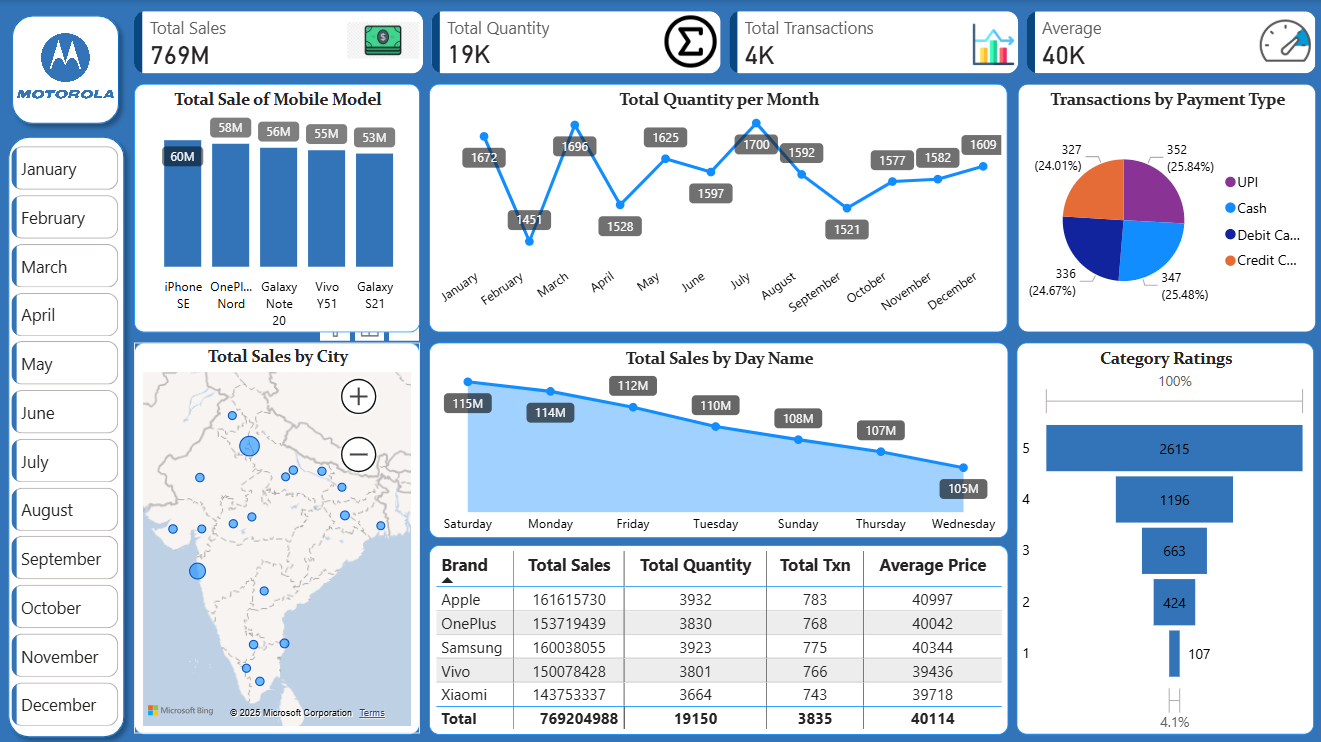

What the dashboard file says about the page in this screenshot:
{"tool":"powerbi","page":{"name":"Dashboard","canvas":[1280,720],"ordinal":0},"visuals":[{"type":"shape","box":[3.8,6.2,121.2,122.5],"z":0},{"type":"image","box":[7.5,0,113.8,135],"z":1000},{"type":"shape","box":[0,122.5,130,597.5],"z":2000},{"type":"advancedSlicerVisual","fields":{"Values":["Mobile Sales Data.Dates.Variation.Date Hierarchy.Month"]},"box":[7.5,136.2,113.8,572.5],"z":3000},{"type":"cardVisual","fields":{"Data":["Mobile Sales Data.Total Sales","Mobile Sales Data.Total Quantity","Mobile Sales Data.Total Transactions","Mobile Sales Data.Average"]},"box":[125.6,6.1,1150,70],"z":4000},{"type":"map","fields":{"Category":["Mobile Sales Data.City"],"Size":["Mobile Sales Data.Total Sales"]},"box":[130,330,276.2,378.8],"z":5000},{"type":"lineChart","title":"Total Quantity per Month","fields":{"Y":["Mobile Sales Data.Total Quantity"],"Category":["Mobile Sales Data.Dates.Variation.Date Hierarchy.Month","Mobile Sales Data.Dates.Variation.Date Hierarchy.Day"]},"box":[415,81.2,558.8,240],"z":6000},{"type":"clusteredColumnChart","title":"Total Sale of Mobile Model","fields":{"Category":["Mobile Sales Data.Mobile Model"],"Y":["Mobile Sales Data.Total Sales"]},"box":[130,81.2,276.2,240],"z":7000},{"type":"pieChart","title":"Transactions by Payment Type","fields":{"Category":["Mobile Sales Data.Payment Method"],"Y":["Mobile Sales Data.Total Transactions"]},"box":[982.7,81.3,288,240],"z":8000},{"type":"funnel","title":"Category Ratings","fields":{"Category":["Mobile Sales Data.Customer Ratings"],"Y":["Sum(Mobile Sales Data.Customer Ratings)"]},"box":[982.5,330,287.5,378.8],"z":9000},{"type":"areaChart","fields":{"Category":["Mobile Sales Data.Day Name"],"Y":["Mobile Sales Data.Total Sales"]},"box":[415,330,559.2,189.2],"z":10000},{"type":"tableEx","fields":{"Values":["Mobile Sales Data.Brand","Mobile Sales Data.Total Sales","Mobile Sales Data.Total Quantity","Mobile Sales Data.Total Transactions","Mobile Sales Data.Average"]},"box":[415,526.2,559.4,183.1],"z":11000}]}

Visuals, with their boxes in screenshot pixels (x1, y1, x2, y2), scaled from the page's 1280x720 canvas onto the 1321x742 screenshot:
shape: x1=4 y1=6 x2=129 y2=133
image: x1=8 y1=0 x2=125 y2=139
shape: x1=0 y1=126 x2=134 y2=741
advancedSlicerVisual - Mobile Sales Data.Dates.Variation.Date Hierarchy.Month: x1=8 y1=140 x2=125 y2=730
cardVisual - Mobile Sales Data.Total Sales x Mobile Sales Data.Total Quantity: x1=130 y1=6 x2=1316 y2=78
map - Mobile Sales Data.City x Mobile Sales Data.Total Sales: x1=134 y1=340 x2=419 y2=730
"Total Quantity per Month" lineChart: x1=428 y1=84 x2=1005 y2=331
"Total Sale of Mobile Model" clusteredColumnChart: x1=134 y1=84 x2=419 y2=331
"Transactions by Payment Type" pieChart: x1=1014 y1=84 x2=1311 y2=331
"Category Ratings" funnel: x1=1014 y1=340 x2=1311 y2=730
areaChart - Mobile Sales Data.Day Name x Mobile Sales Data.Total Sales: x1=428 y1=340 x2=1005 y2=535
tableEx - Mobile Sales Data.Brand x Mobile Sales Data.Total Sales: x1=428 y1=542 x2=1006 y2=731
